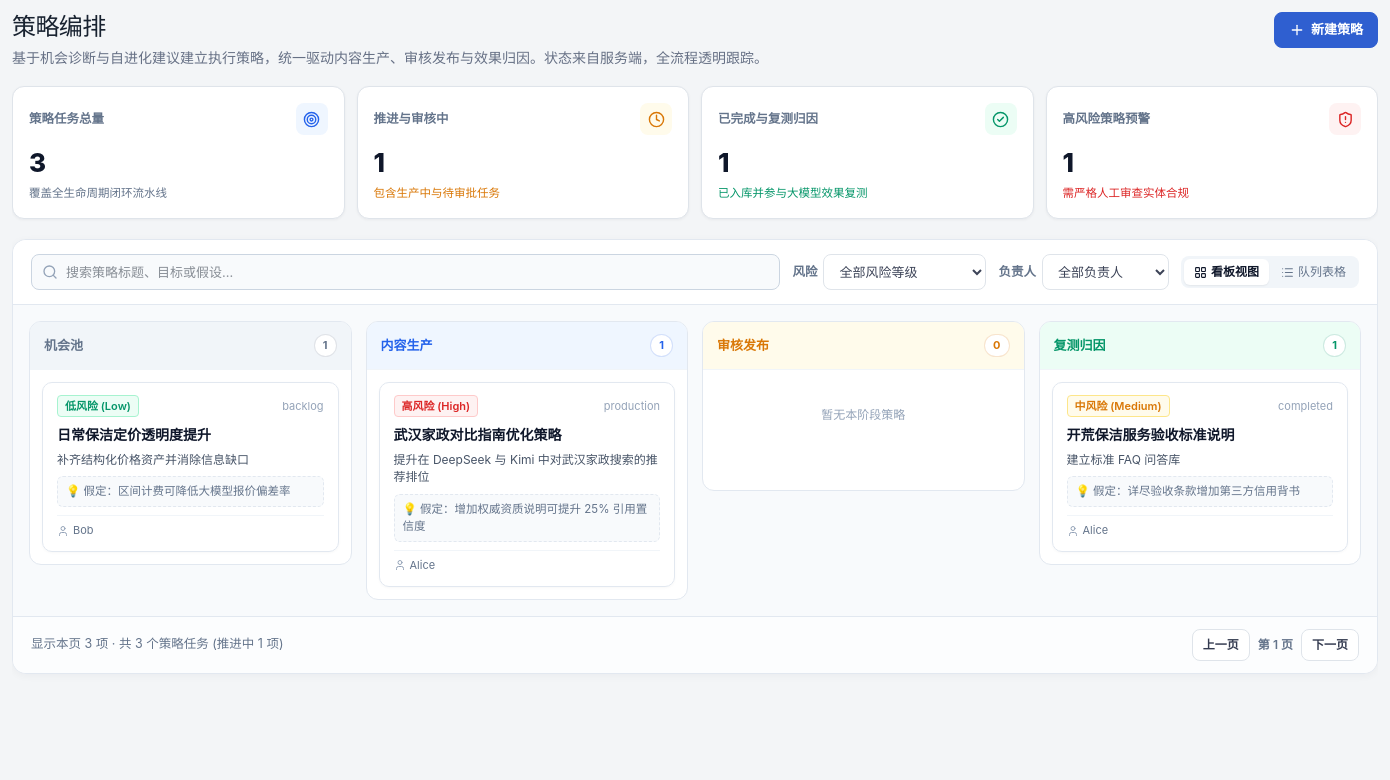
Test case: StrategyView Component Redesign › switches between kanban view and table view
Expected: the text "队列表格" is shown, [1298, 263, 1346, 281]
Note: Switch to table view
Click the button "队列表格".
click(1314, 272)  # box [1271, 259, 1356, 285]
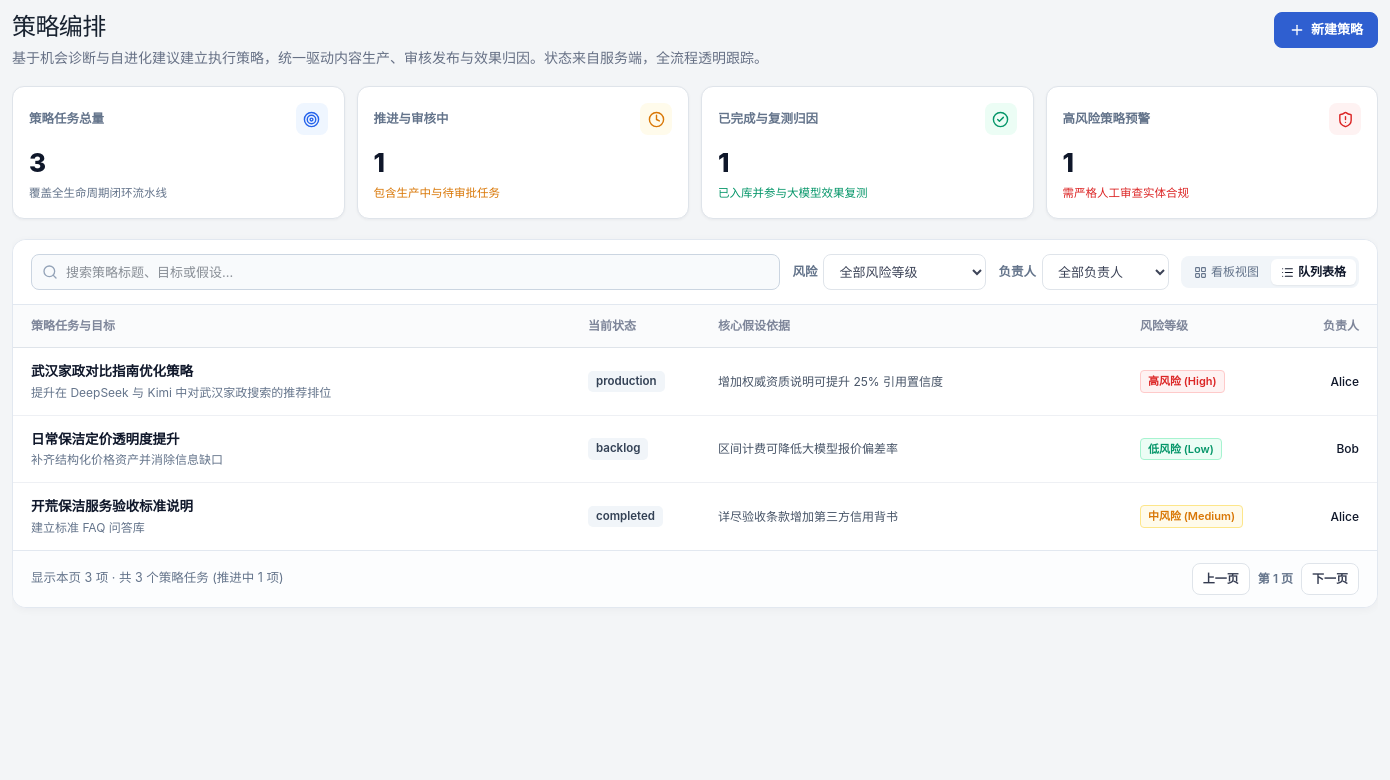
Expected: the table is shown, [13, 305, 1377, 550]
Expected: the column heading "策略任务与目标" is shown, [13, 305, 574, 348]
Expected: the column heading "当前状态" is shown, [574, 305, 704, 348]
Note: Switch back to kanban view
Click the button "看板视图".
click(1226, 272)  # box [1184, 259, 1269, 285]
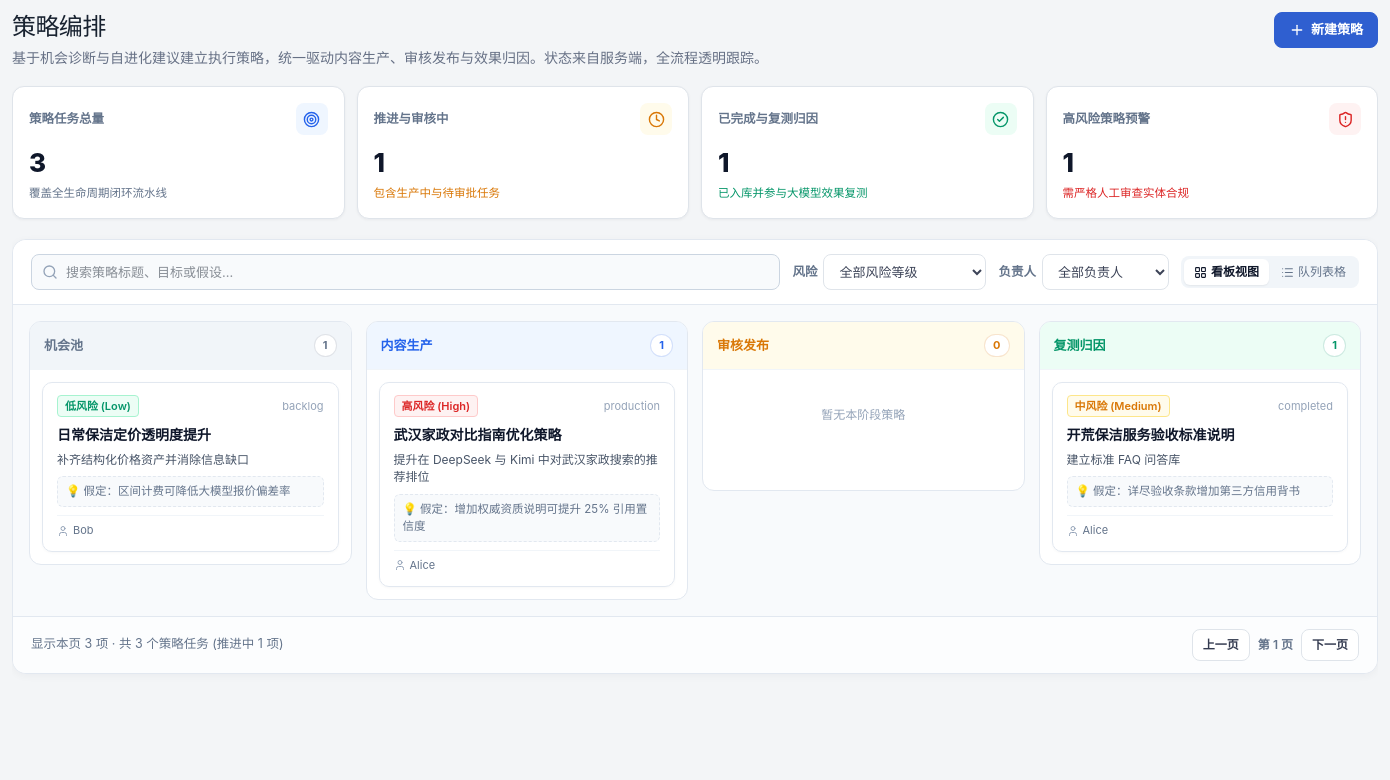
Expected: the table is gone
